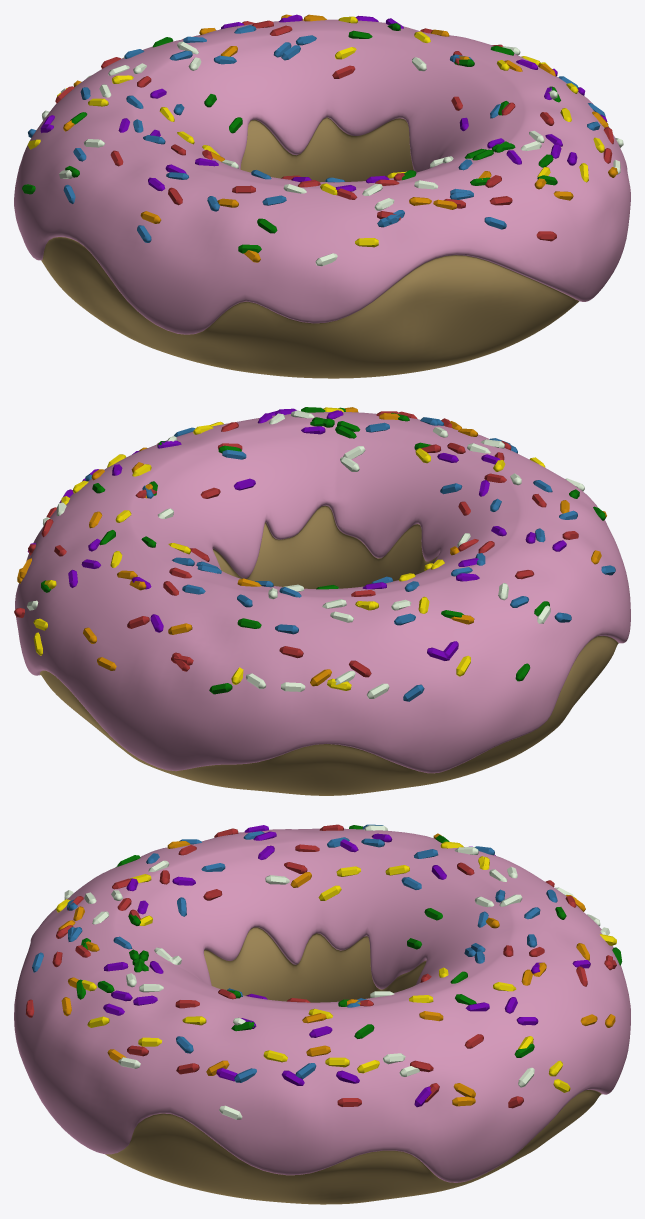
The model's file is pinkDonut.fbx.
3 views of the same model, one above another, from view 1: azimuth 30°, elevation 25°; view 2: azimuth 150°, elevation 25°; view 3: azimuth 270°, elevation 25° (orthographic). The views are drawn at different scales.
Visible parts, largest first — view 1: pinkDonut; view 2: pinkDonut; view 3: pinkDonut.
Part boxes in pixels (bbox=[...]): pinkDonut: bbox=[14, 14, 630, 378]; pinkDonut: bbox=[14, 407, 630, 795]; pinkDonut: bbox=[14, 824, 630, 1204].
Bounding box in the file's own units: 3.13 × 1.09 × 3.13.
